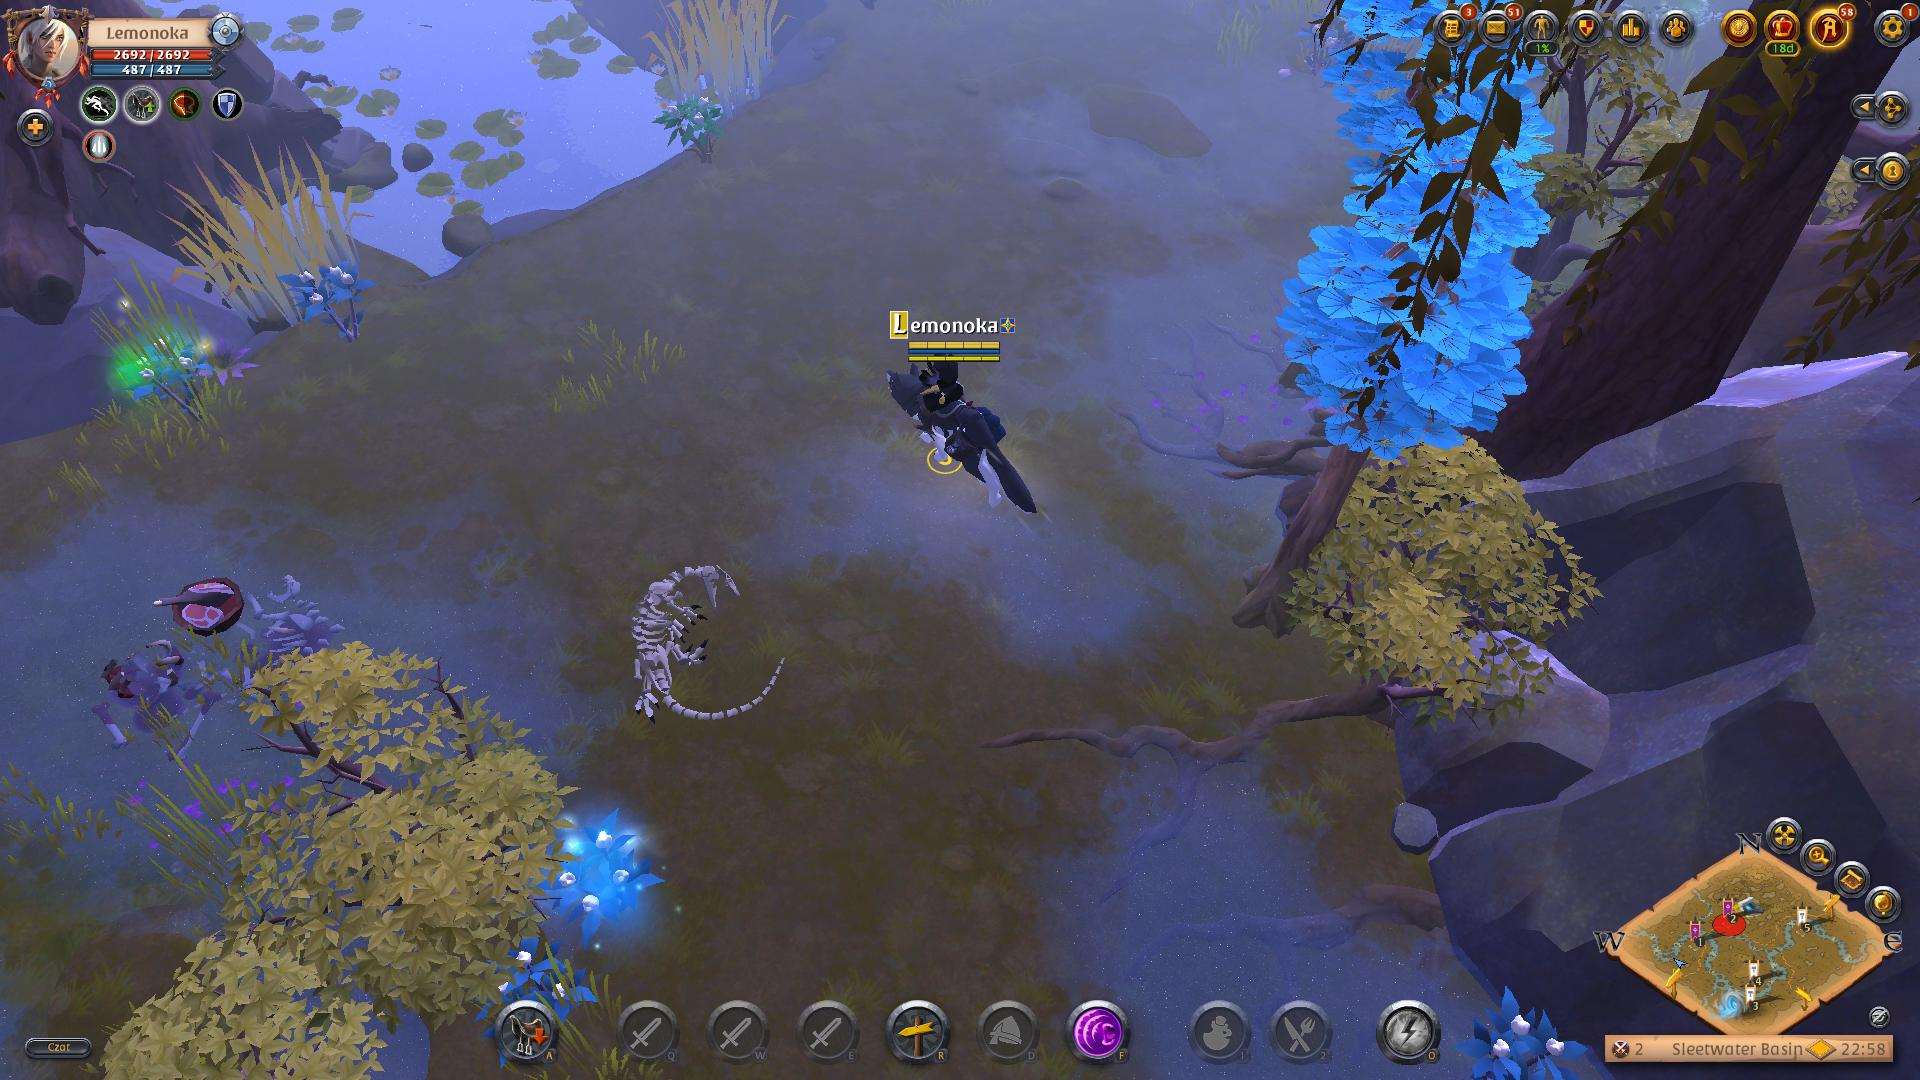fiber tier 3: (649, 87, 728, 169)
fiber tier 4: (538, 808, 669, 947), (108, 327, 220, 422), (280, 258, 380, 343)
wood tier 3: (1280, 62, 1553, 469)
